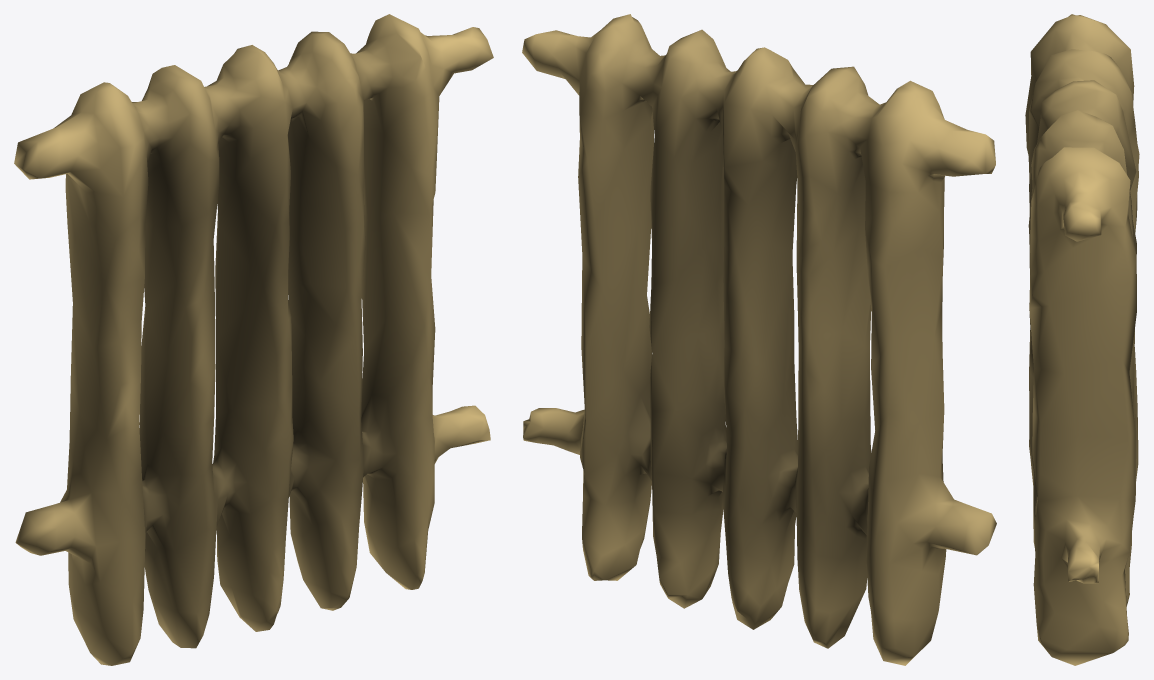
File: msh_Heater_01.fbx
3 renders of one model, left to right at view 1: azimuth 30°, elevation 25°; view 2: azimuth 150°, elevation 25°; view 3: azimuth 270°, elevation 25°, orthographic. The views are drawn at different scales.
Parts seen in each view (by area): view 1: heater; view 2: heater; view 3: heater.
Boxes of the visible parts, <box> form: heater: <box>14,14,493,665</box>; heater: <box>522,14,996,665</box>; heater: <box>1025,14,1139,665</box>.
Size of the model in its own units: 1.12 by 1.34 by 0.2618.
